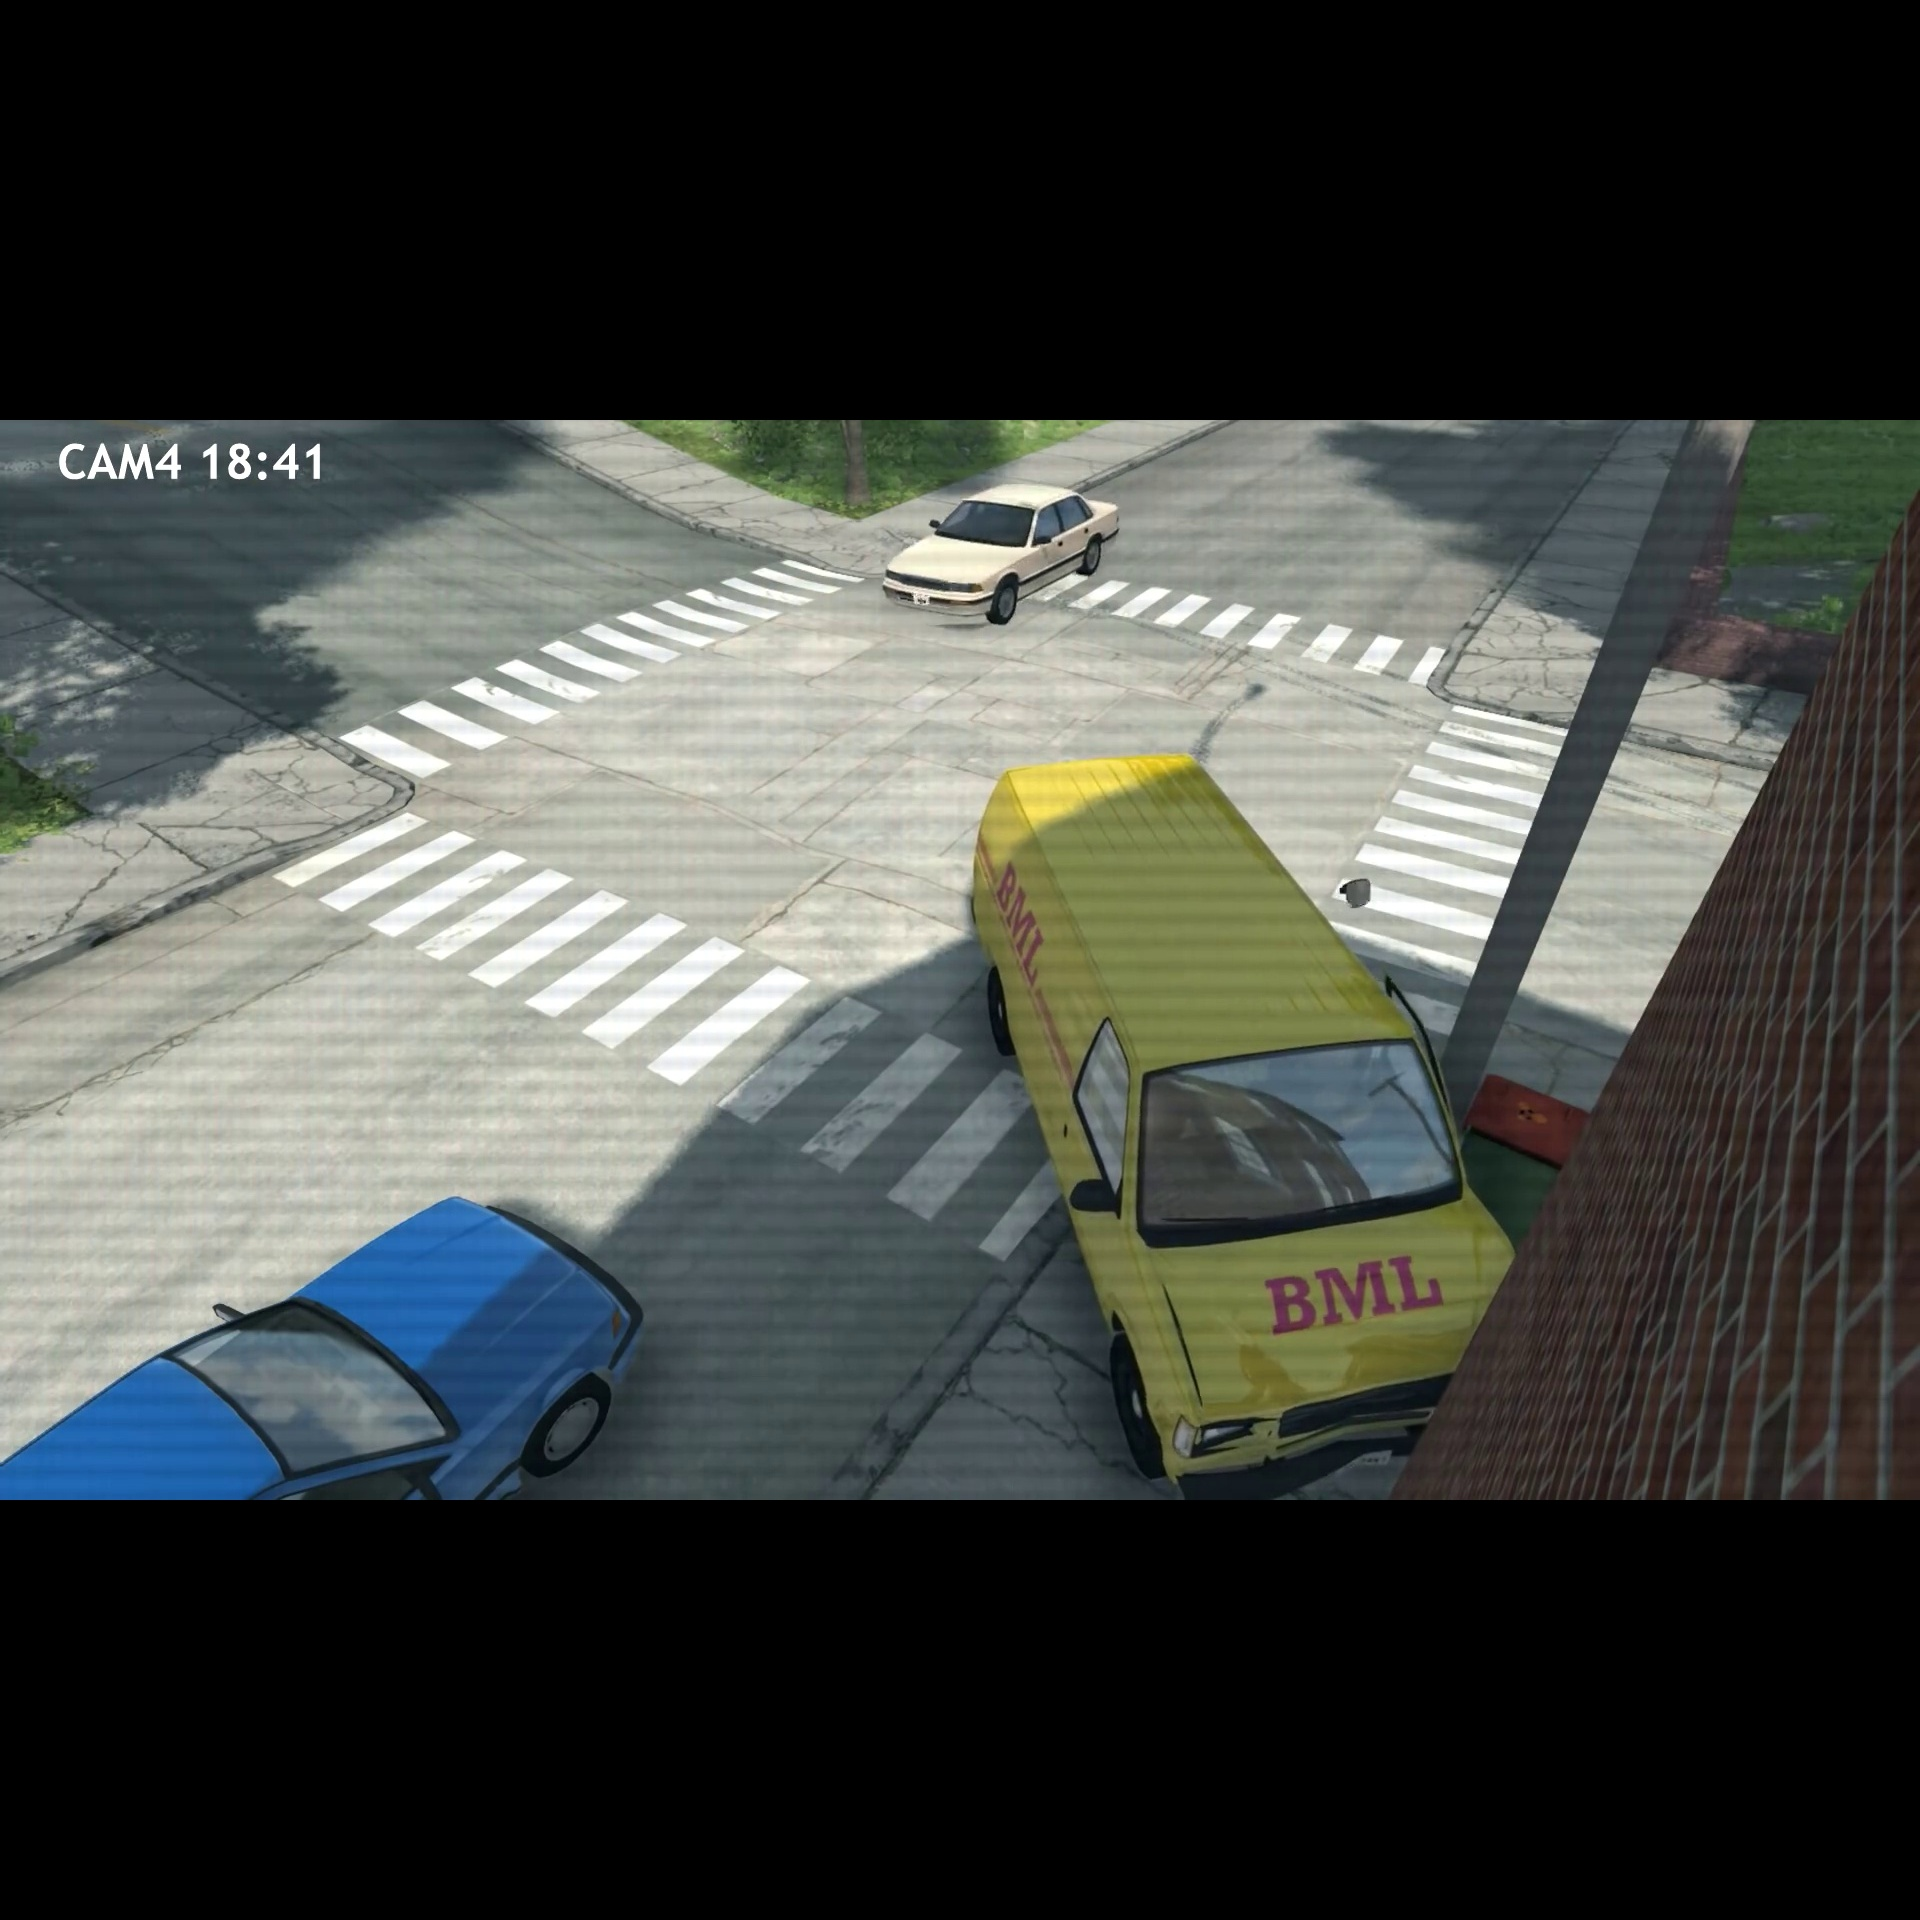vehicle: (951, 742, 1524, 1503), (2, 1164, 673, 1502), (879, 475, 1127, 631)
